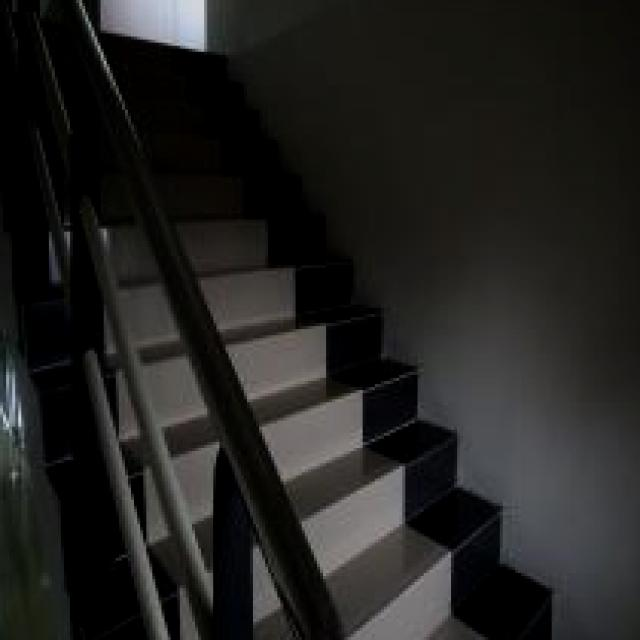upstair: (166, 83, 355, 294)
